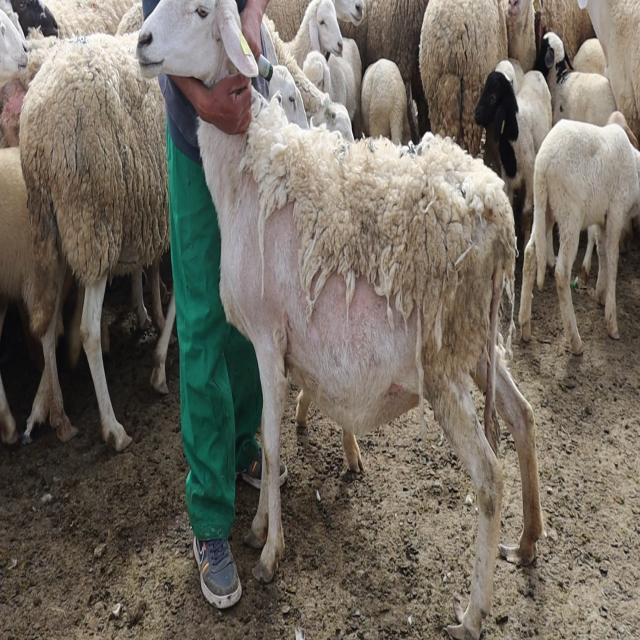Score_2: (136, 0, 543, 639)
